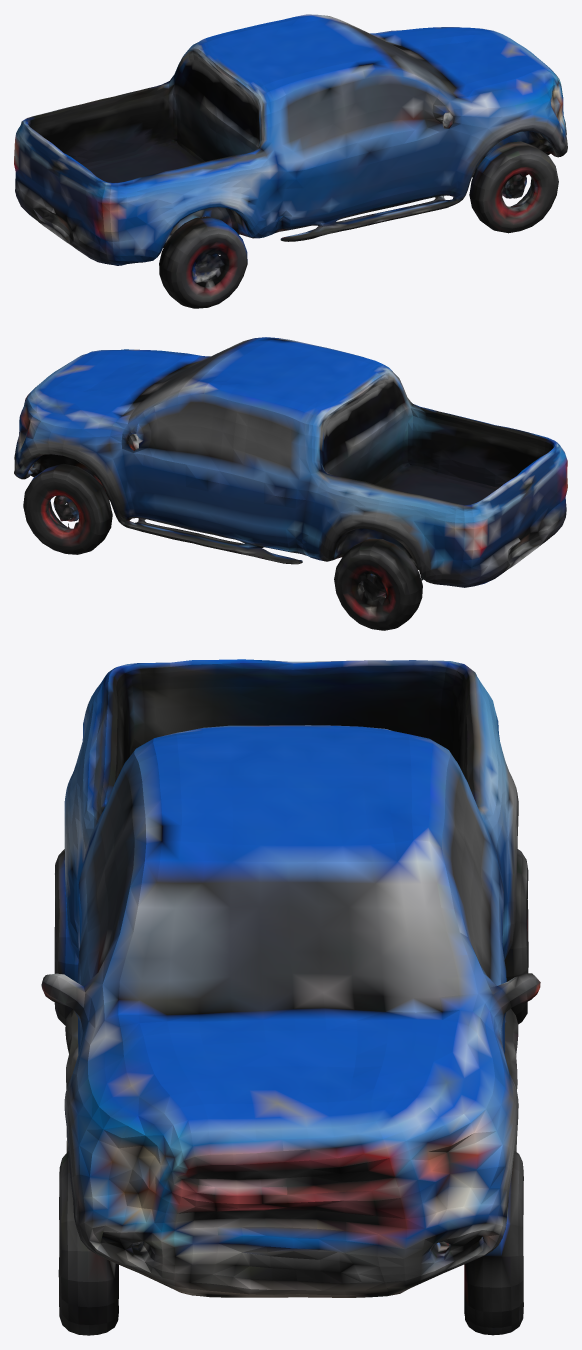
The model's file is car-model.glb.
3 views of the same model, one above another, from view 1: azimuth 30°, elevation 25°; view 2: azimuth 150°, elevation 25°; view 3: azimuth 270°, elevation 25° (orthographic). The views are drawn at different scales.
Visible parts, largest first — view 1: tripo_node_9d163f47-5597-497c-bfae-1c8f490780fa; view 2: tripo_node_9d163f47-5597-497c-bfae-1c8f490780fa; view 3: tripo_node_9d163f47-5597-497c-bfae-1c8f490780fa.
Part boxes in pixels (x1,y1,x2,y2): tripo_node_9d163f47-5597-497c-bfae-1c8f490780fa: (14,14,567,308); tripo_node_9d163f47-5597-497c-bfae-1c8f490780fa: (14,337,567,630); tripo_node_9d163f47-5597-497c-bfae-1c8f490780fa: (41,659,540,1335).
Size of the model in its own units: 0.9966 by 0.3648 by 0.4436.
